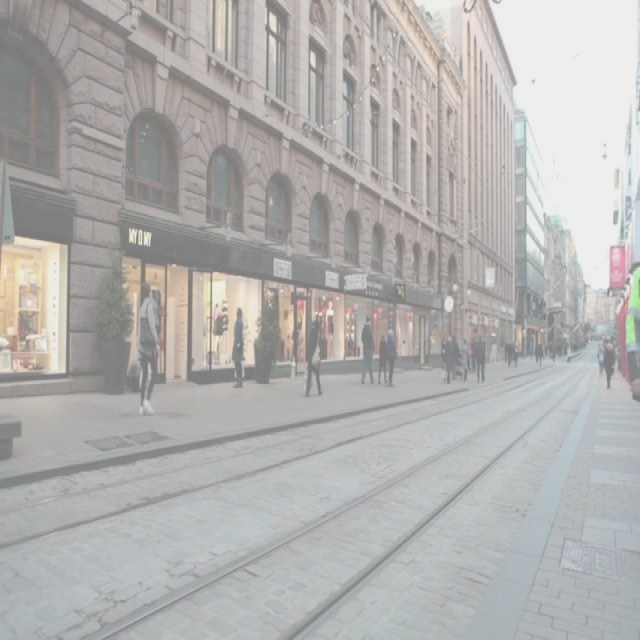pessoa: (135, 280, 159, 416), (624, 255, 639, 412), (323, 296, 357, 358), (304, 318, 325, 396), (360, 310, 376, 386), (212, 296, 230, 358), (231, 306, 244, 390), (385, 325, 400, 388), (288, 324, 304, 377), (376, 330, 388, 386), (604, 340, 616, 390), (444, 334, 454, 386), (476, 333, 486, 383), (466, 338, 478, 376), (314, 308, 323, 356), (460, 337, 468, 383), (452, 333, 461, 368), (613, 342, 622, 374), (441, 336, 447, 382), (596, 346, 605, 376), (574, 336, 588, 354), (512, 340, 520, 370), (481, 333, 487, 372), (555, 338, 567, 356), (564, 342, 574, 362), (456, 350, 462, 380), (536, 341, 542, 367), (534, 338, 540, 364), (507, 337, 512, 368), (503, 336, 508, 364), (540, 341, 548, 358), (551, 341, 557, 363), (618, 338, 622, 371), (602, 336, 614, 347), (526, 337, 532, 359), (602, 345, 606, 375), (588, 332, 597, 344), (596, 342, 602, 347)
